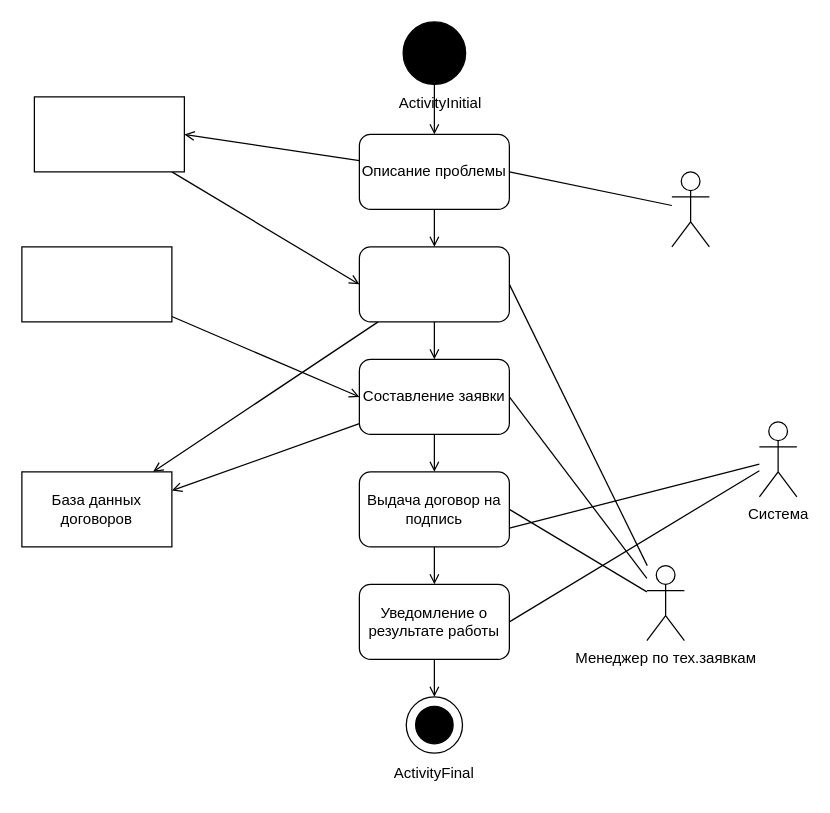
The diagram is 830 pixels wide and 813 high, and some of its shapes have lost their labels. The shapes that lost their labels are listed below. From the top down, each one's box as (x1, y1, x2, y2) in pixels, then its label:
(33, 96, 184, 172): Первичное описание проблемы, информации об устройстве
(671, 171, 709, 247): Клиент
(21, 246, 172, 322): Форма заявки
(358, 246, 509, 322): Обсуждение деталей с клиентом
